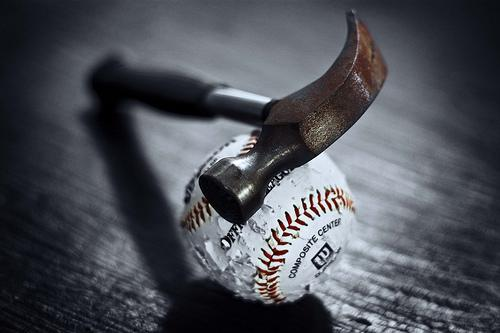hammer: (86, 6, 390, 225)
